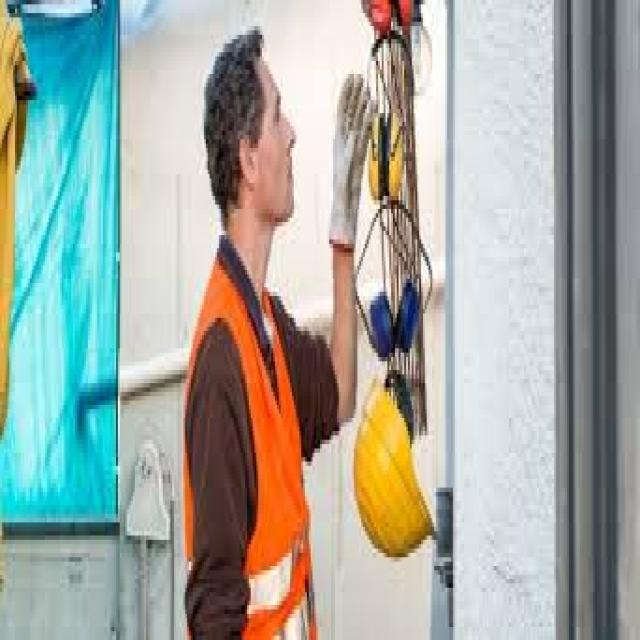Ear-protection: (361, 91, 404, 209), (369, 262, 419, 362)
head_helmet: (348, 379, 438, 566)
person: (171, 17, 369, 640)
